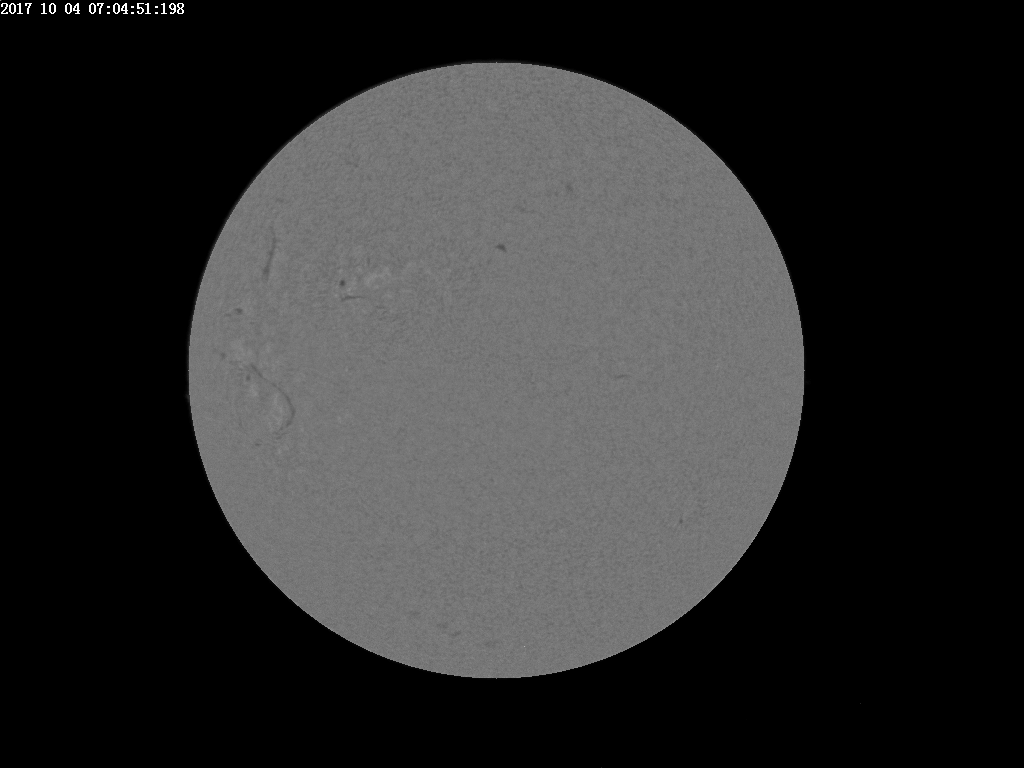filament: (216, 346, 306, 453), (332, 270, 370, 307), (256, 230, 279, 280), (502, 198, 549, 220), (600, 363, 639, 386), (557, 172, 579, 201), (489, 237, 512, 261), (223, 302, 246, 321)
